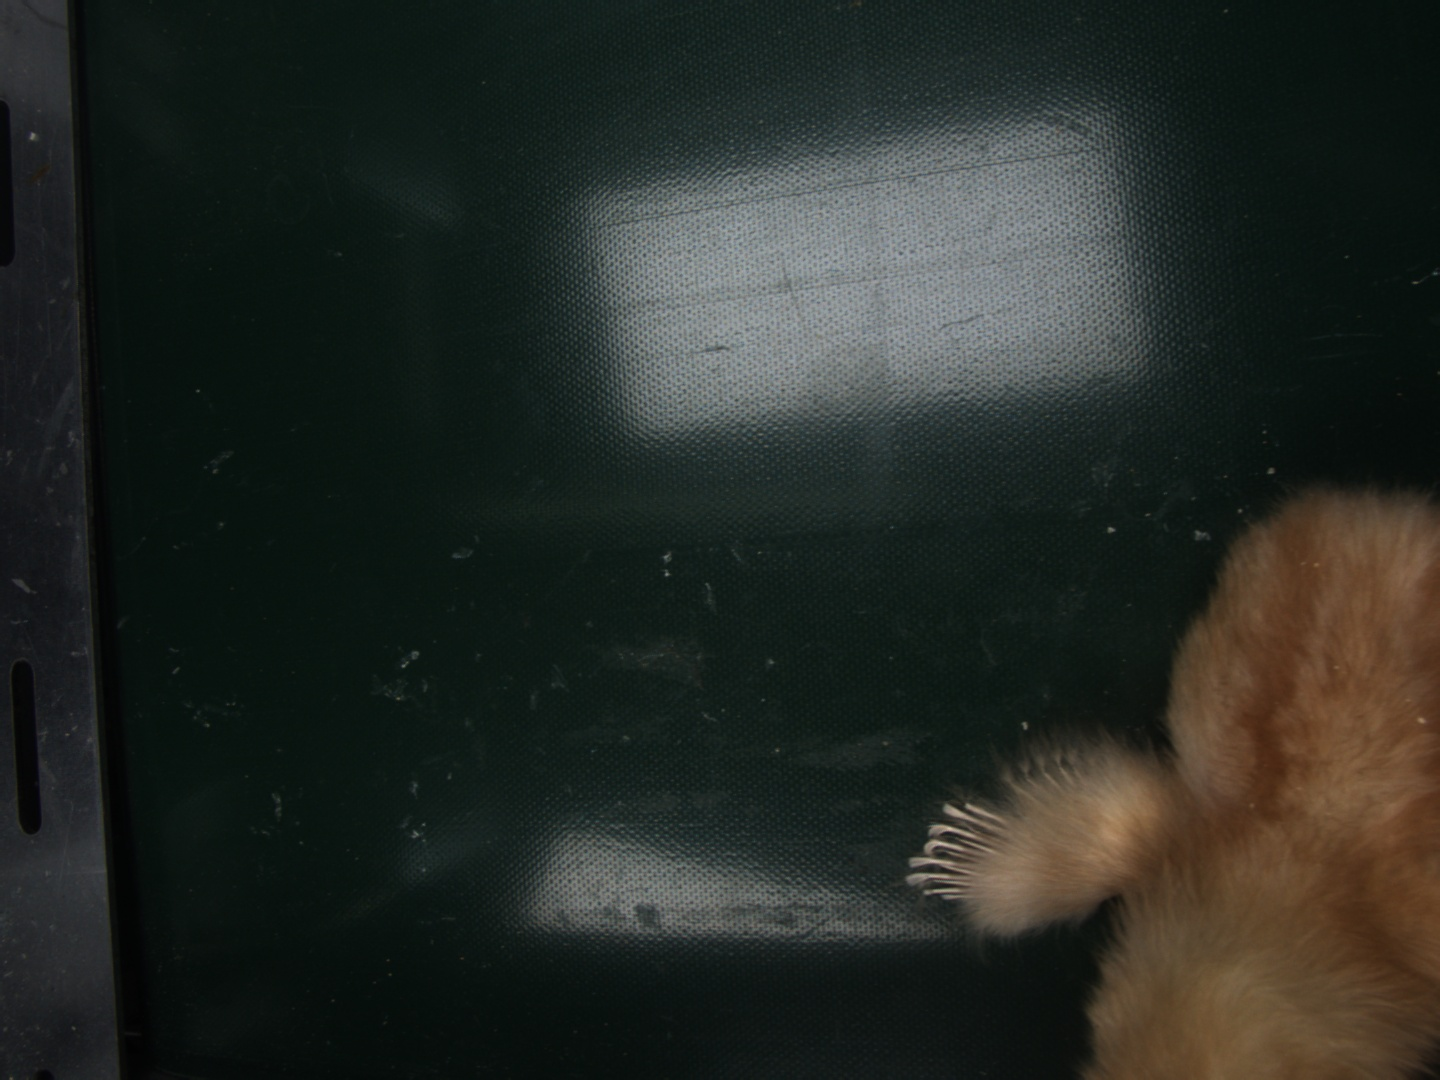female: (907, 801, 1015, 901)
